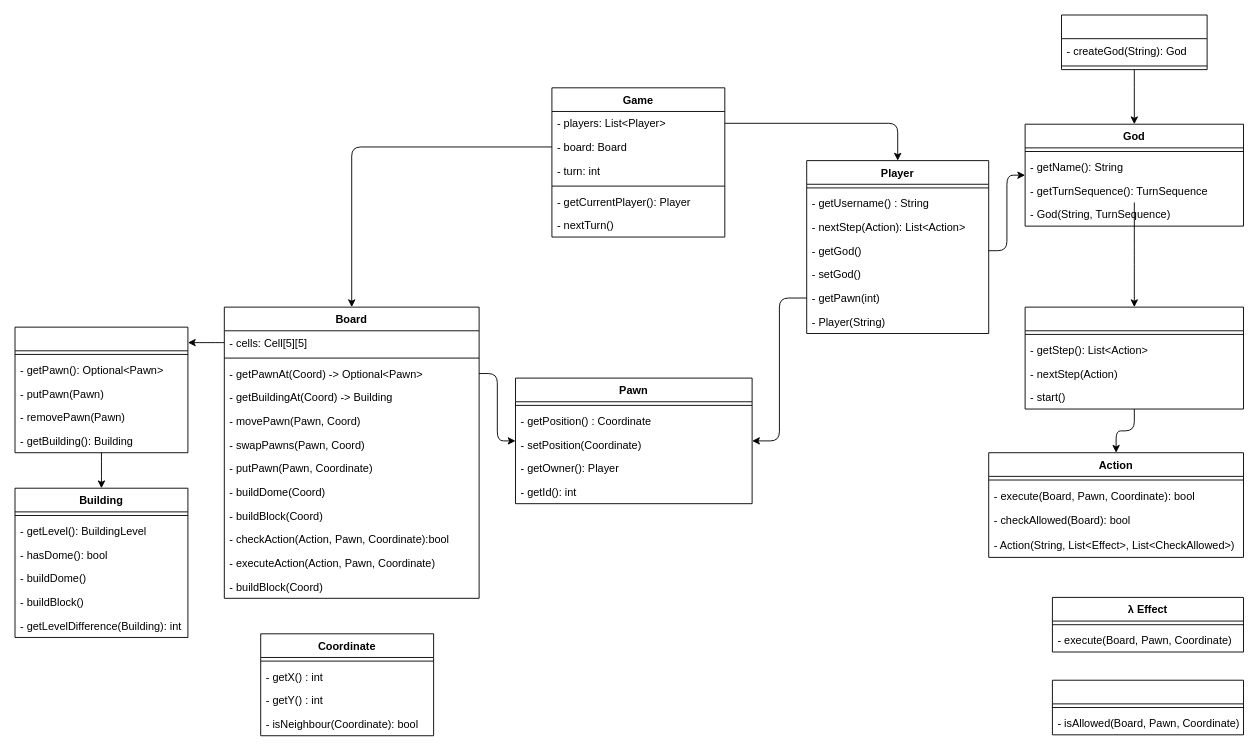
Image size: 1259x751. Some labels were removed from this diagram. Here are the shapes that lost their labels. From the top down, the box of each, then its label:
(1061, 14, 1207, 70): GodFactory
(1024, 306, 1244, 409): TurnSequence
(14, 326, 188, 453): Cell
(1052, 679, 1244, 735): λ CheckAllowed
